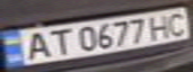0: (75, 24, 100, 52)
6: (93, 20, 115, 50)
7: (109, 18, 133, 47), (127, 16, 151, 44)
A: (18, 29, 54, 61)
C: (163, 9, 193, 37)
H: (145, 11, 175, 40)
T: (42, 26, 75, 56)
